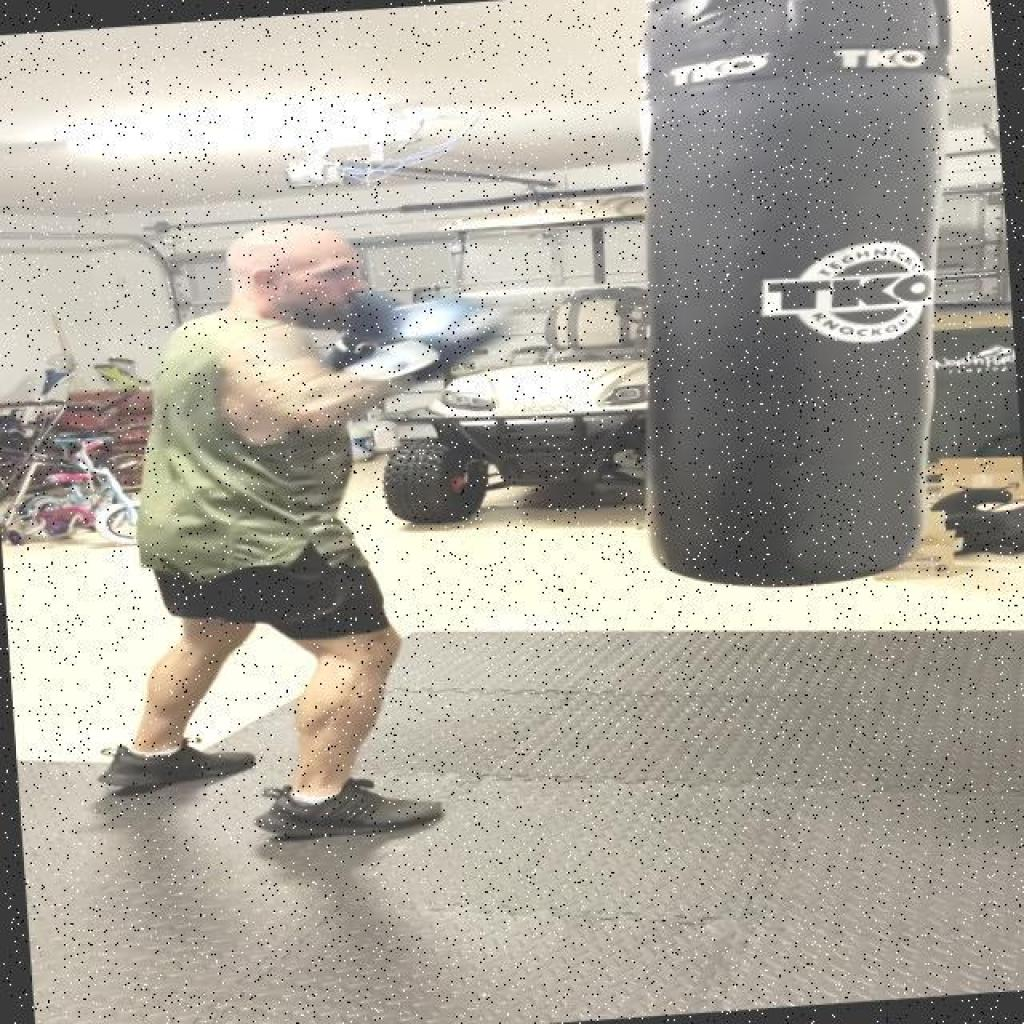uppercut: (139, 189, 658, 518)
